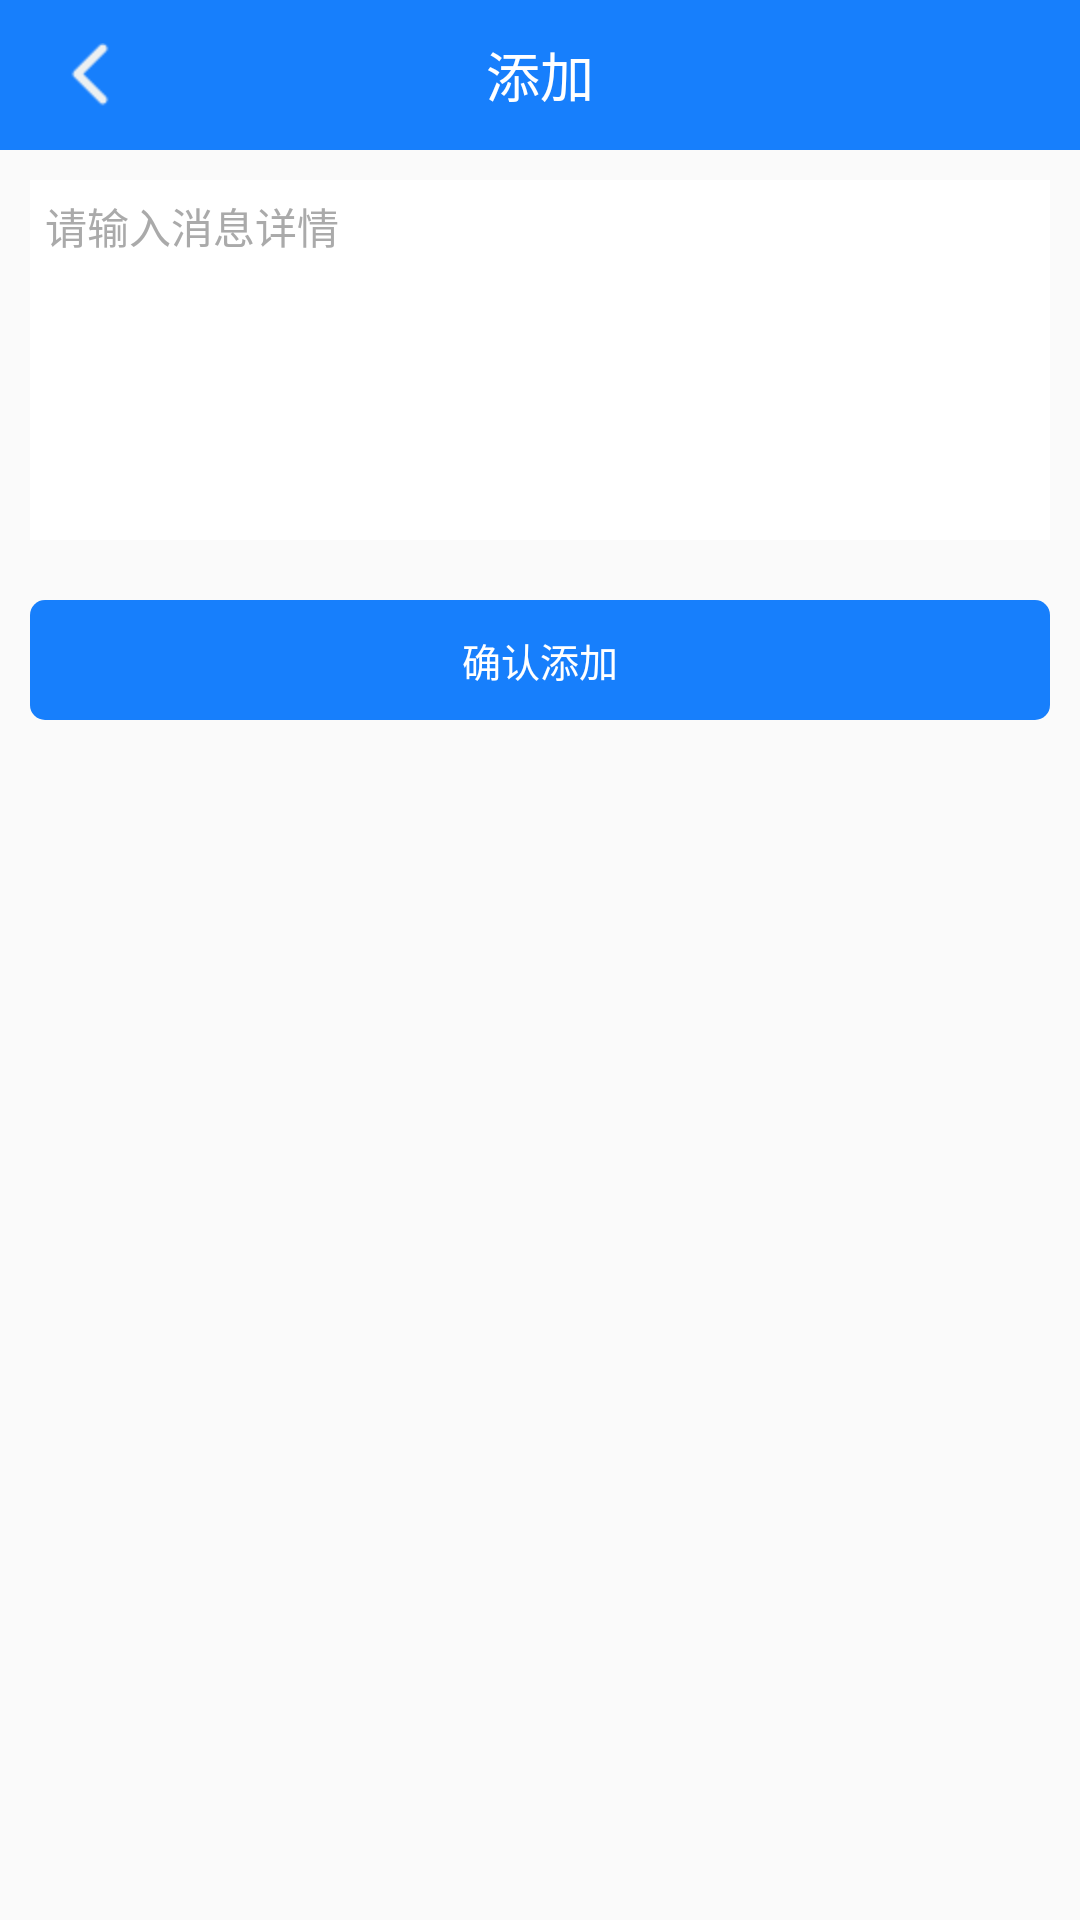

Icon click points for this 1080px x 1920px phone screenshot, format point (x, y):
back: point (90, 74)
